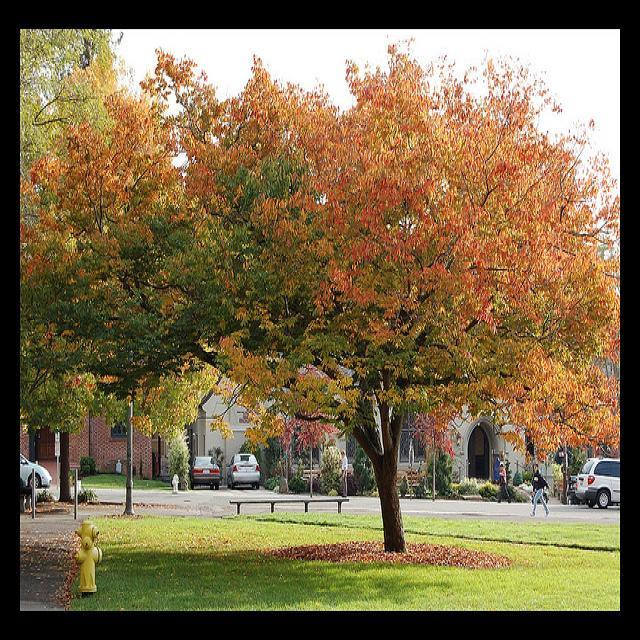fire_hydrant: (73, 522, 101, 589), (171, 473, 179, 493)
